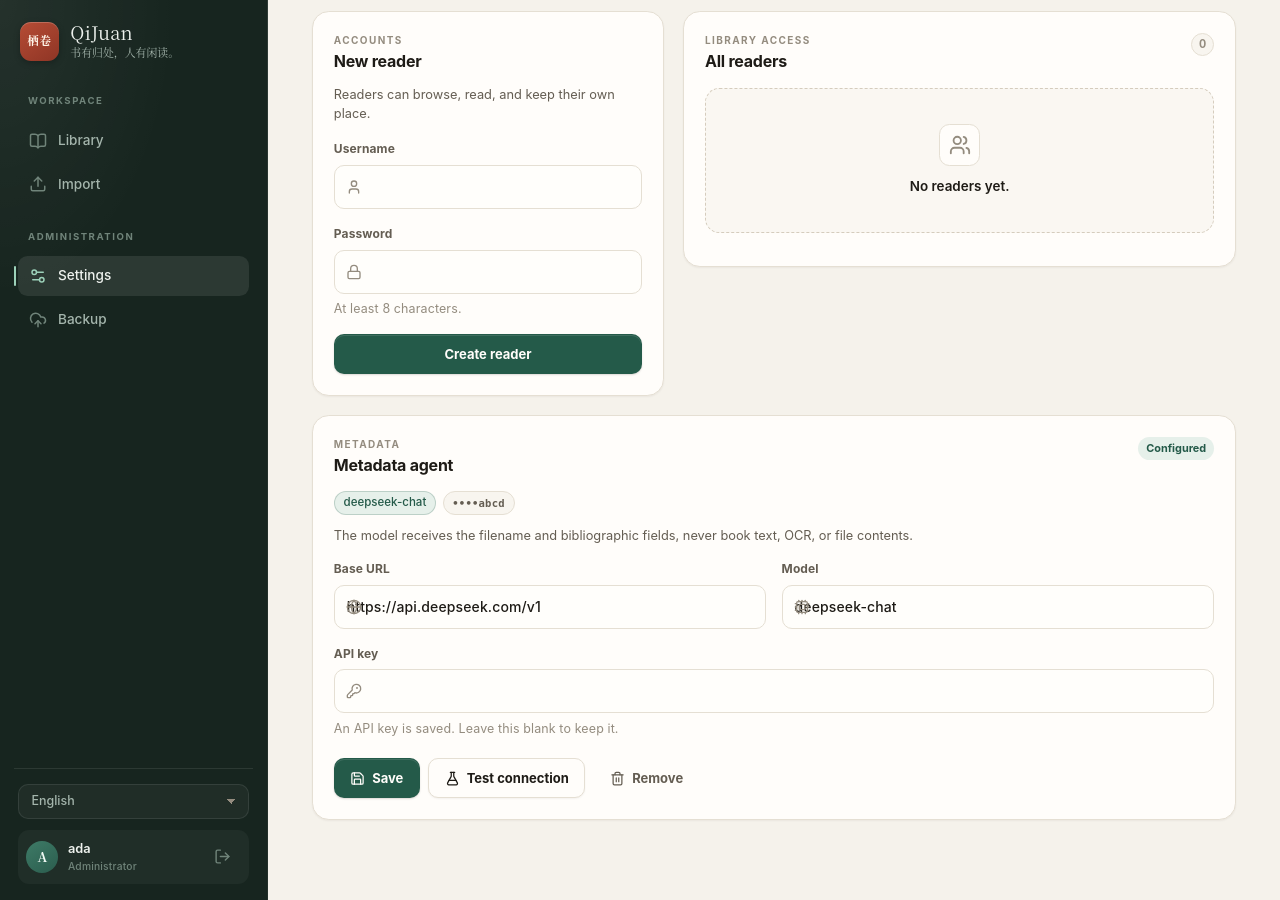
it: settings metadata agent › removes the saved configuration
(page scrolled)
Click the button "Remove" at (647, 778), box [594,758,699,798]
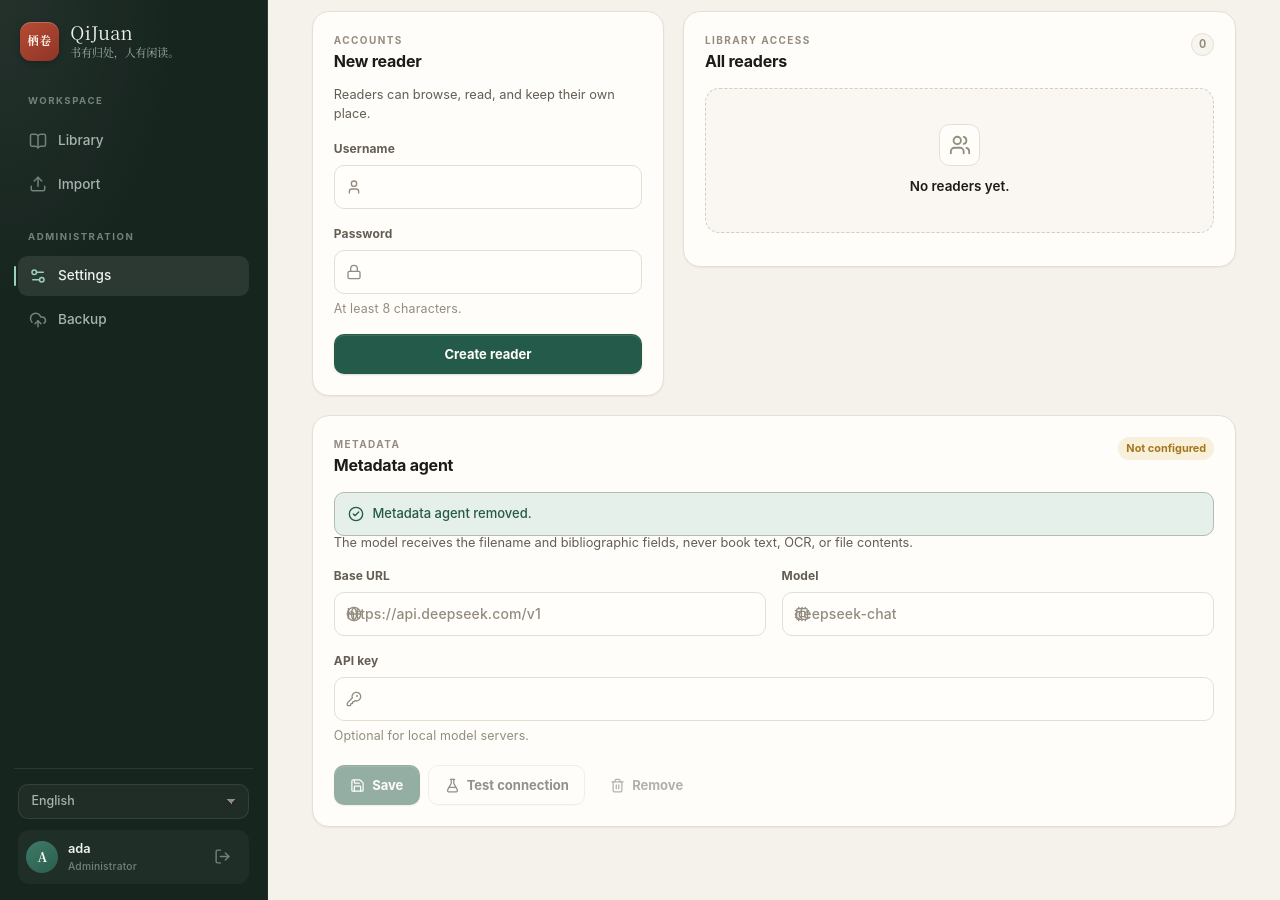
Expected: the text "Metadata agent removed." is shown, [334,492,1214,536]
Expected: the text "Not configured" is shown, [1118,437,1214,460]
Expected: the field labelled "Base URL" is empty, [334,592,766,636]
